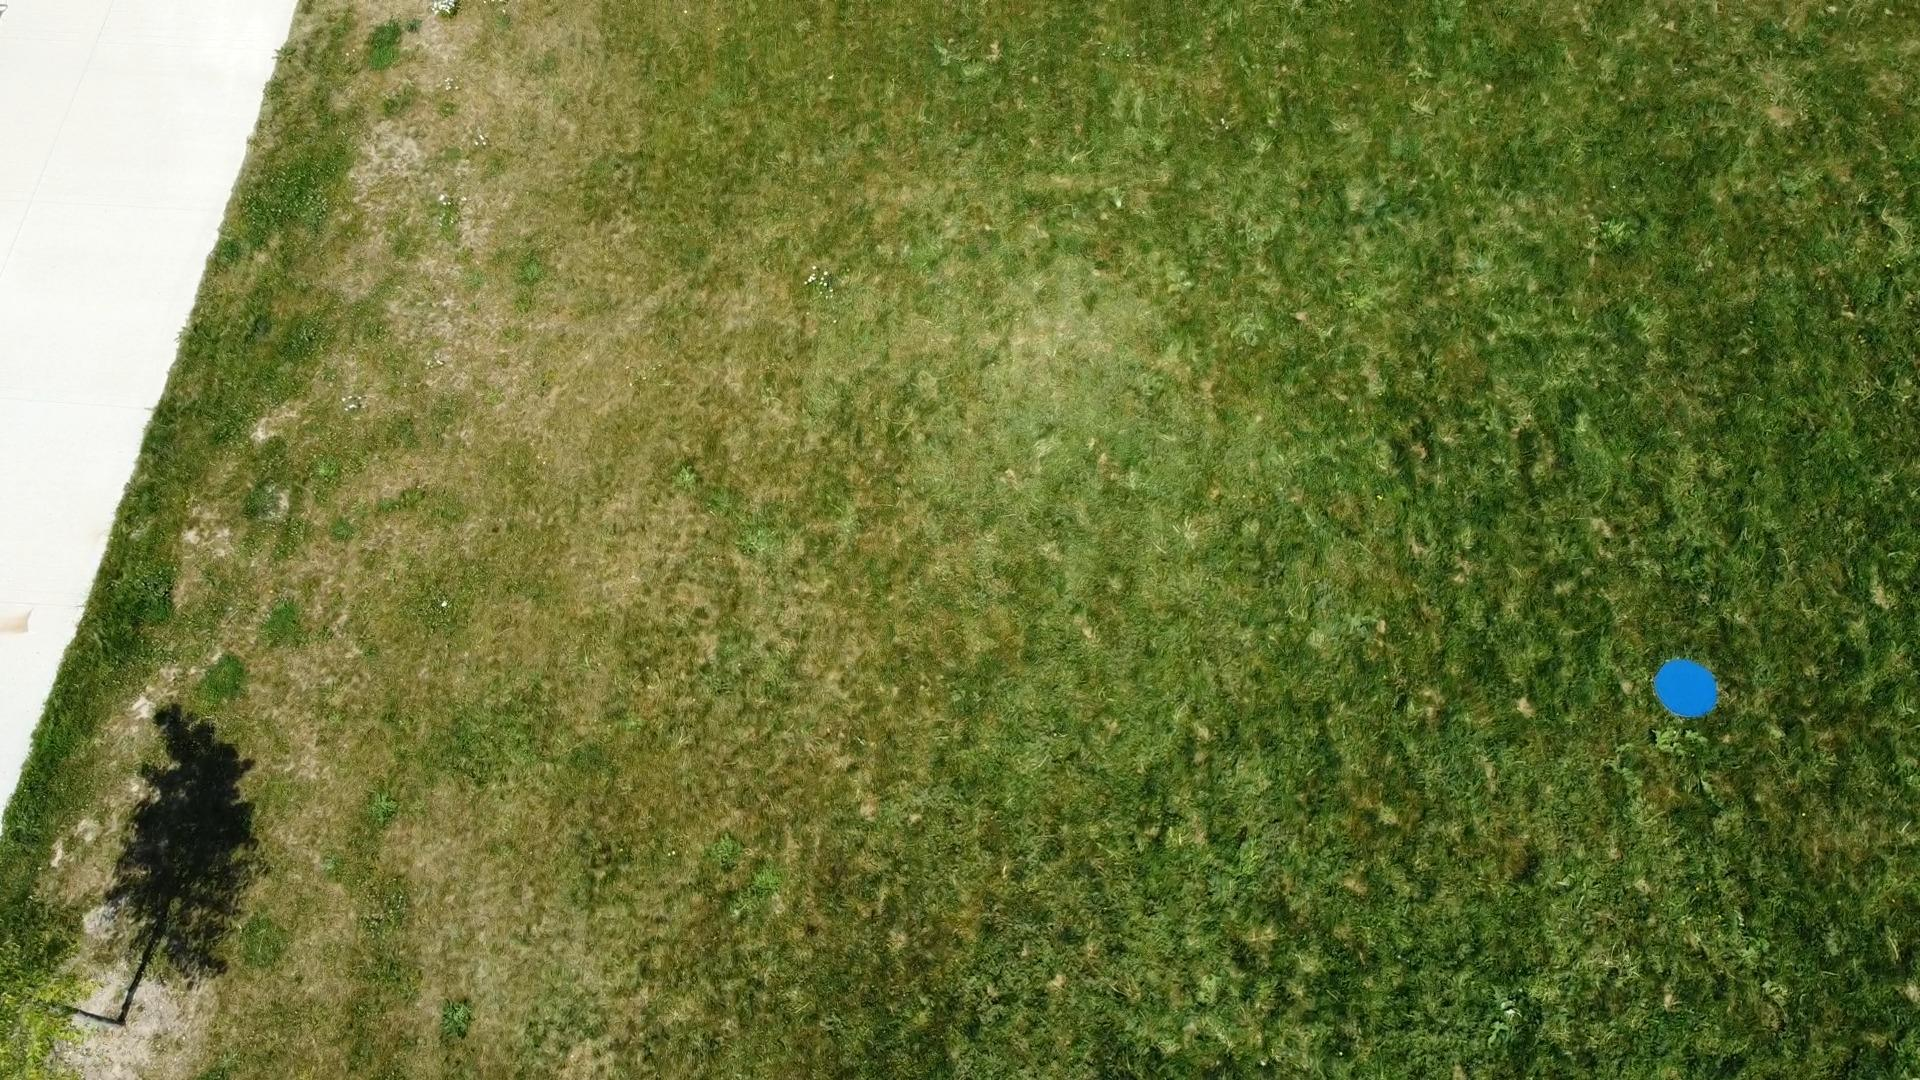Blue: (1651, 654, 1724, 721)
